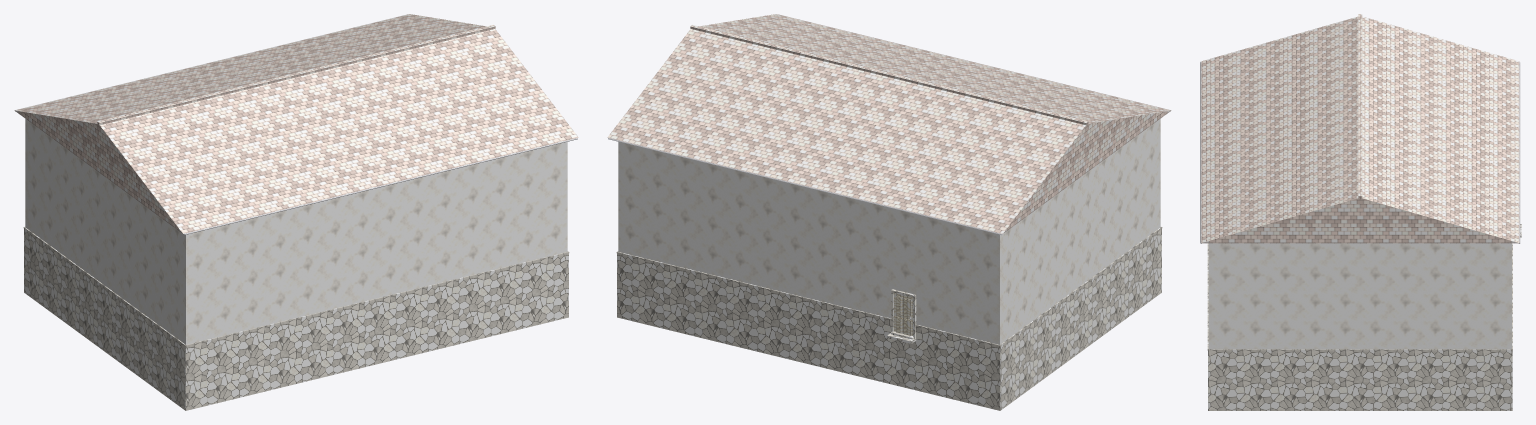
The picture shows the model from 3 angles, left to right: view 1: azimuth 30°, elevation 25°; view 2: azimuth 150°, elevation 25°; view 3: azimuth 270°, elevation 25°; orthographic projection. The views are drawn at different scales.
Parts seen in each view (by area): view 1: b1086637697; view 2: b1086637697; view 3: b1086637697.
Part boxes in pixels (x1,y1,x2,y2): b1086637697: [14, 14, 578, 410]; b1086637697: [607, 14, 1171, 410]; b1086637697: [1200, 14, 1521, 410].
Size of the model in its own units: 20.14 by 11.22 by 15.
11 materials, 11 textured.
